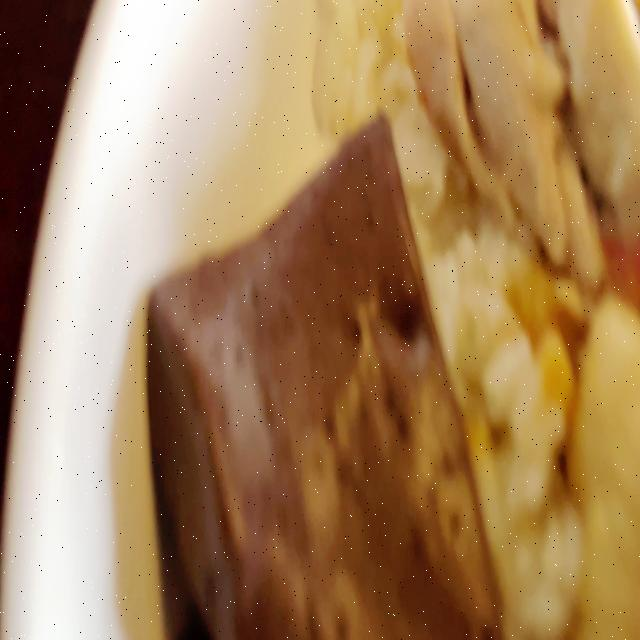boiled_chicken: (424, 0, 640, 239)
boiled_chicken_blood_jelly: (149, 114, 492, 640)
chicken_rice: (142, 0, 640, 640)
